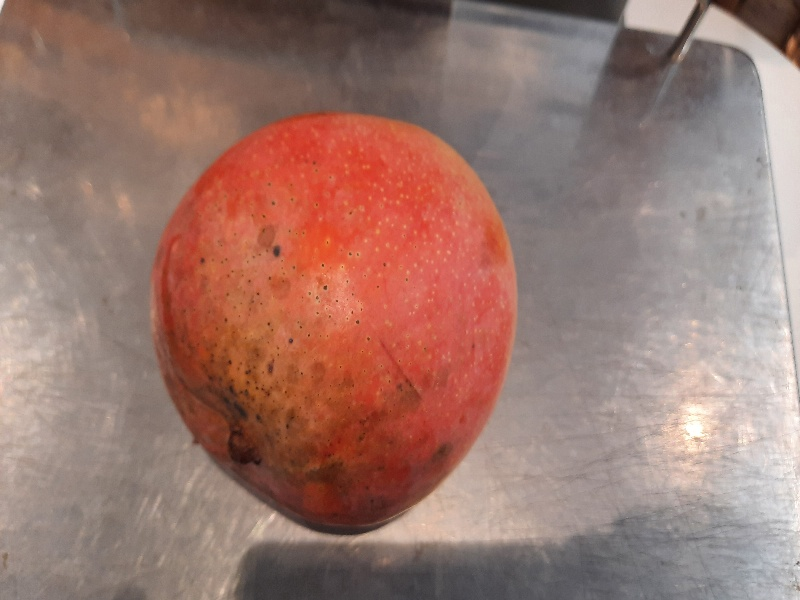fruit: (145, 104, 522, 538)
